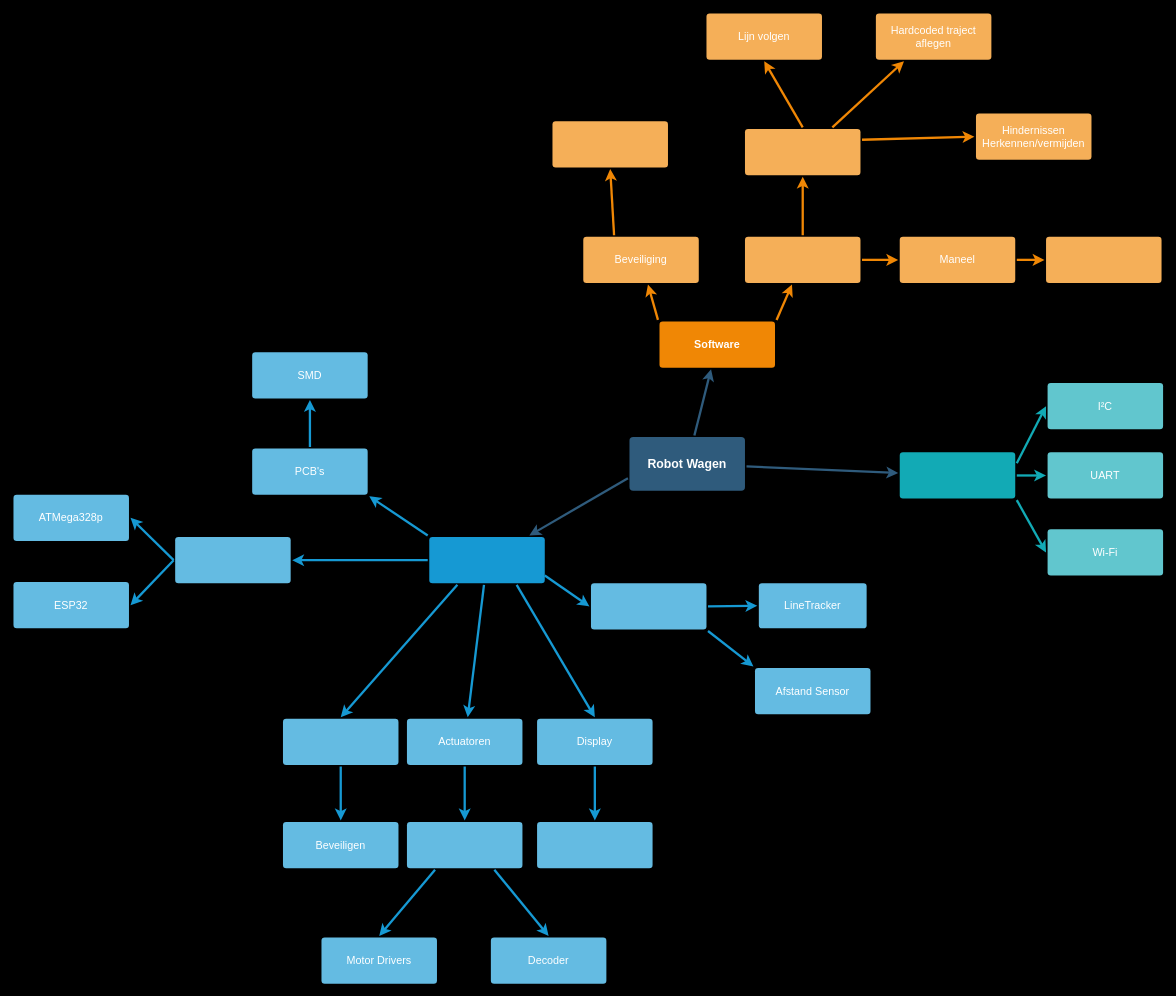
The diagram is 1176 pixels wide and 996 high, and some of its shapes have lost their labels. The shapes that lost their labels are listed below. From the top down, each one's centre as x and y in pixels, then its label:
point (610, 144): Wachtwoord
point (802, 152): Automatisch
point (802, 259): Besturing
point (1103, 259): Node-RED
point (957, 475): Communicatie
point (232, 560): MicroControllers
point (486, 560): Harware
point (648, 606): Sensoren
point (340, 741): Baterij
point (464, 845): Motoren
point (594, 845): OLED
